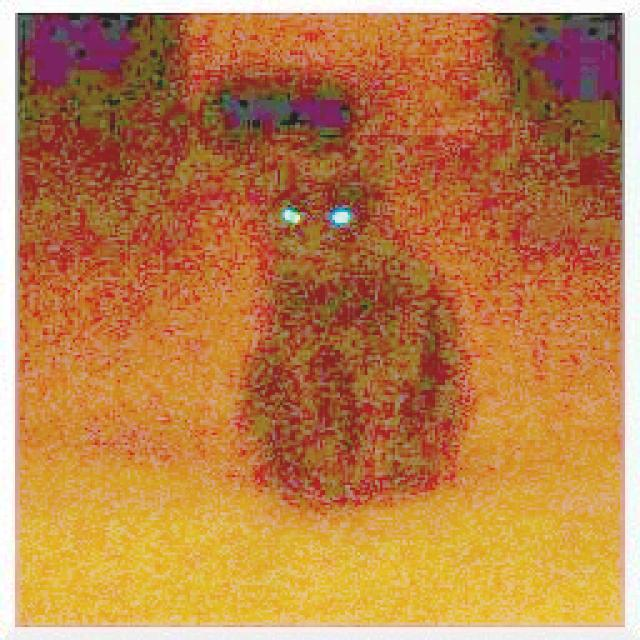cat: (248, 155, 464, 512)
